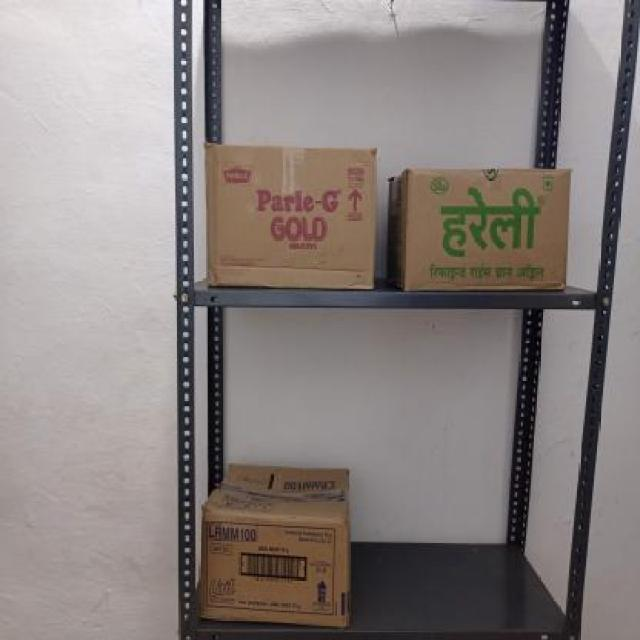box: (204, 140, 373, 294), (404, 170, 570, 292), (200, 516, 352, 618)
